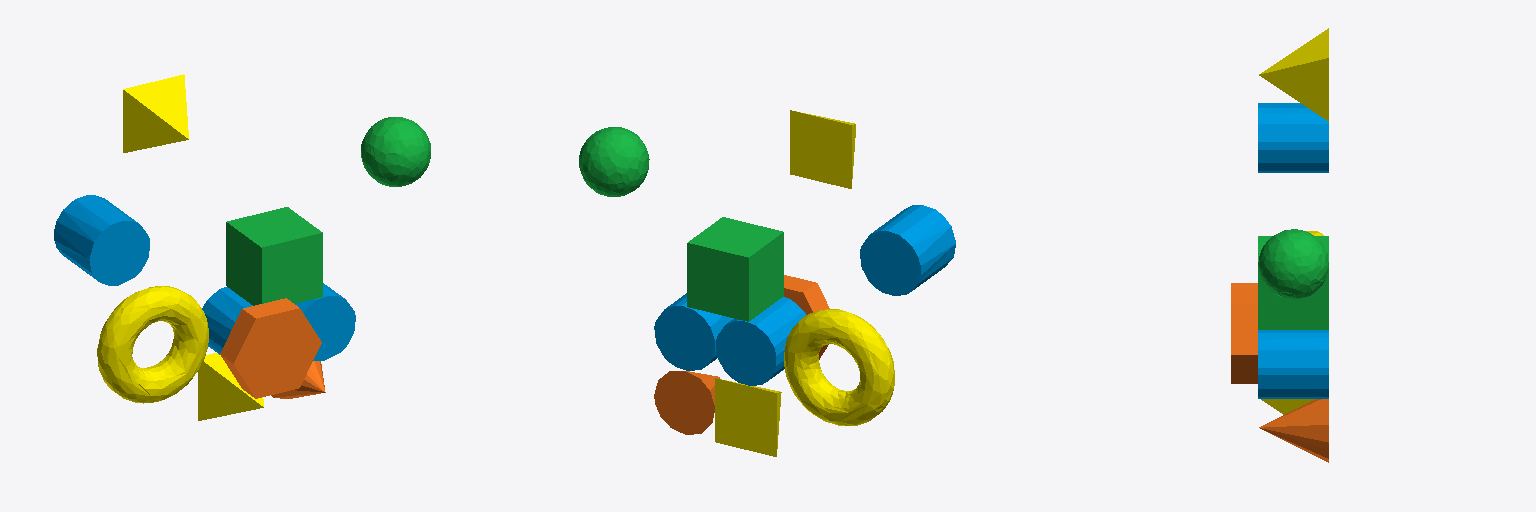
Rendered from many_shapes.obj.
3 views of the same model, side by side, from view 1: azimuth 30°, elevation 25°; view 2: azimuth 150°, elevation 25°; view 3: azimuth 270°, elevation 25° (orthographic).
Parts seen in each view (by area): view 1: Torus, Cube, Object.6, Object.9, Object.10, Sphere, Pyramide, Cilinder.right, Cilinder.middle, Object.5; view 2: Torus, Cube, Object.9, Cilinder.middle, Pyramide, Object.10, Sphere, Cilinder.right, Object.5, Object.6; view 3: Cilinder.right, Object.9, Sphere, Object.10, Cube, Object.6, Object.5.
Part boxes in pixels (x1,y1,x2,y2): Torus: (97, 286, 208, 403); Cube: (226, 207, 322, 305); Object.6: (220, 298, 321, 398); Object.9: (54, 195, 149, 285); Object.10: (123, 74, 188, 152); Sphere: (361, 117, 430, 186); Pyramide: (198, 353, 263, 420); Cilinder.right: (295, 283, 355, 360); Cilinder.middle: (202, 287, 252, 354); Object.5: (271, 361, 325, 398); Torus: (784, 309, 894, 425); Cube: (687, 217, 783, 321); Object.9: (860, 205, 955, 295); Cilinder.middle: (716, 297, 805, 385); Pyramide: (715, 378, 781, 456); Object.10: (790, 110, 855, 188); Sphere: (579, 127, 649, 196); Cilinder.right: (654, 293, 733, 370); Object.5: (654, 371, 719, 434); Object.6: (784, 275, 829, 359); Cilinder.right: (1258, 330, 1328, 398); Object.9: (1258, 103, 1328, 172); Sphere: (1258, 229, 1328, 299); Object.10: (1259, 28, 1328, 121); Cube: (1258, 236, 1328, 329); Object.6: (1231, 283, 1257, 383); Object.5: (1259, 399, 1328, 462).
Bounding box in the file's own units: 231 × 218 × 55.49.